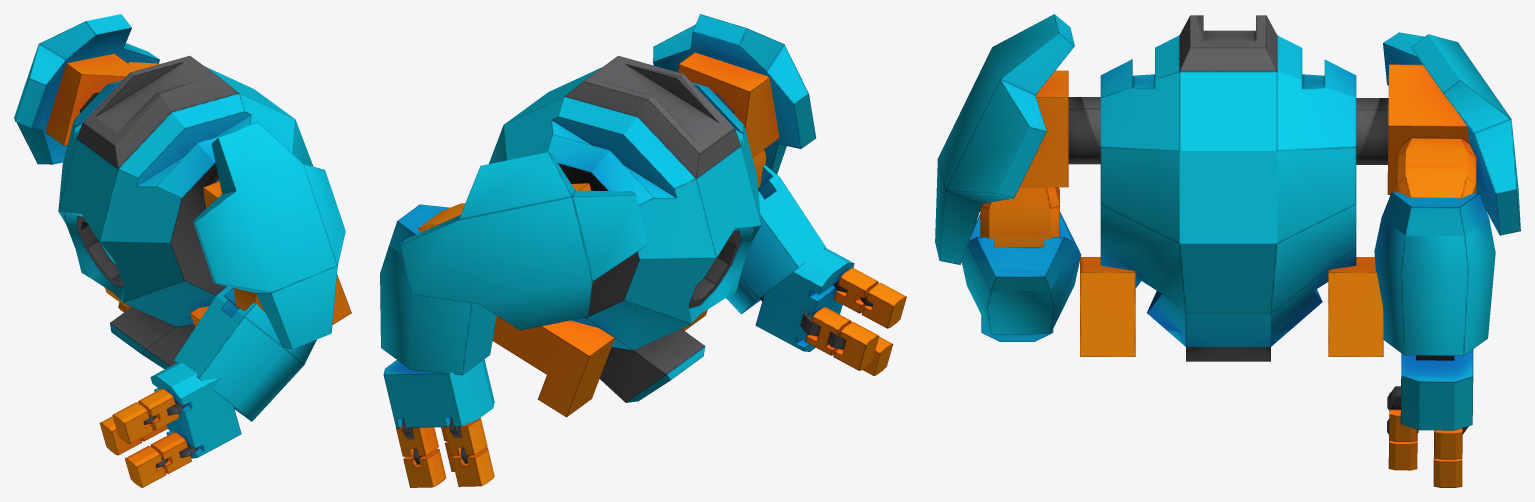
The model's file is Body_Running6.obj.
The picture shows the model from 3 angles, left to right: view 1: azimuth 30°, elevation 25°; view 2: azimuth 150°, elevation 25°; view 3: azimuth 270°, elevation 25°; orthographic projection. The views are drawn at different scales.
Visible parts, largest first — view 1: Plane001, Object006, Object002, Object008, Object007; view 2: Plane001, Object002, Object006, Object008, Object004, Object003, Object007; view 3: Plane001, Object006, Object002, Object003, Object007, Object004, Object005, Object001.
Part boxes in pixels (box(x1,y1,x2,y2)): Plane001: box(58, 56, 351, 369); Object006: box(193, 122, 345, 349); Object002: box(14, 14, 159, 164); Object008: box(99, 363, 241, 487); Object007: box(174, 286, 316, 421); Plane001: box(489, 55, 761, 417); Object002: box(399, 152, 647, 330); Object006: box(653, 14, 816, 187); Object008: box(755, 248, 906, 375); Object004: box(383, 359, 494, 487); Object003: box(380, 204, 496, 375); Object007: box(726, 165, 825, 314); Plane001: box(1080, 15, 1383, 361); Object006: box(935, 14, 1074, 264); Object002: box(1383, 32, 1520, 235); Object003: box(1374, 192, 1495, 355); Object007: box(961, 212, 1081, 334); Object004: box(1387, 349, 1473, 487); Object005: box(1068, 97, 1100, 164); Object001: box(1356, 98, 1388, 164).
Bounding box in the file's own units: 121 × 136 × 182.
